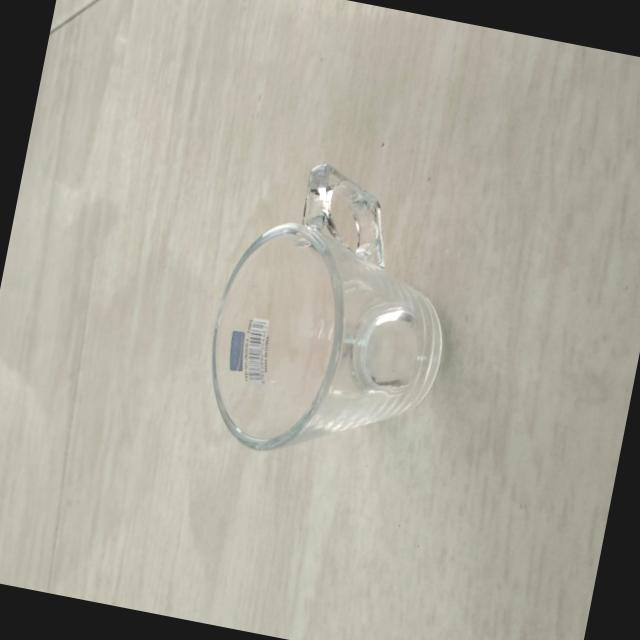glass-VX4N: (183, 143, 480, 488)
